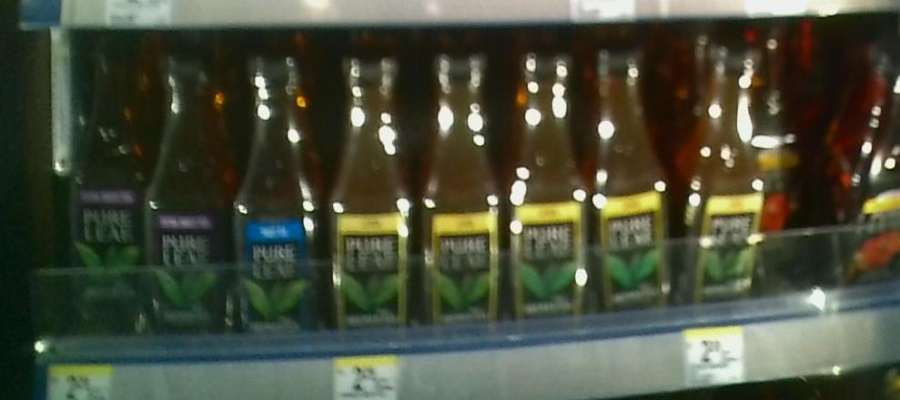bottle: (415, 49, 504, 355), (325, 48, 413, 355), (234, 48, 321, 352), (506, 51, 591, 339), (147, 59, 231, 349), (592, 36, 677, 322), (66, 41, 145, 342), (682, 35, 763, 321), (834, 48, 900, 299), (764, 31, 828, 243)
